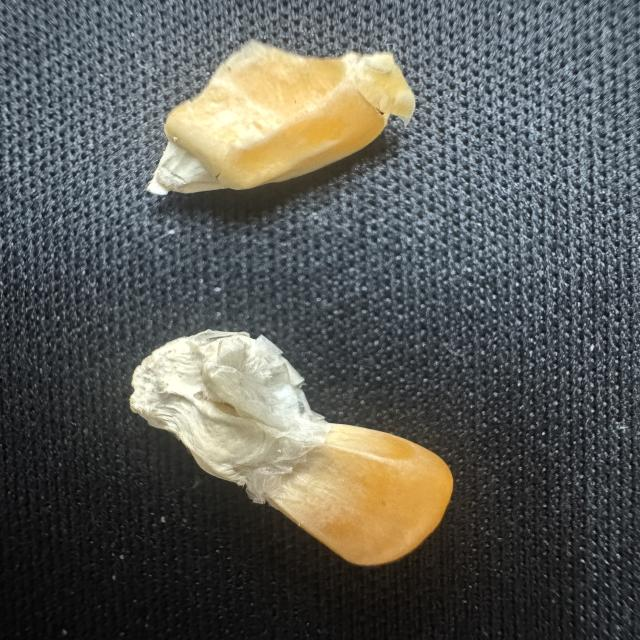Bad-Seed: (113, 324, 458, 570), (140, 32, 414, 215)
